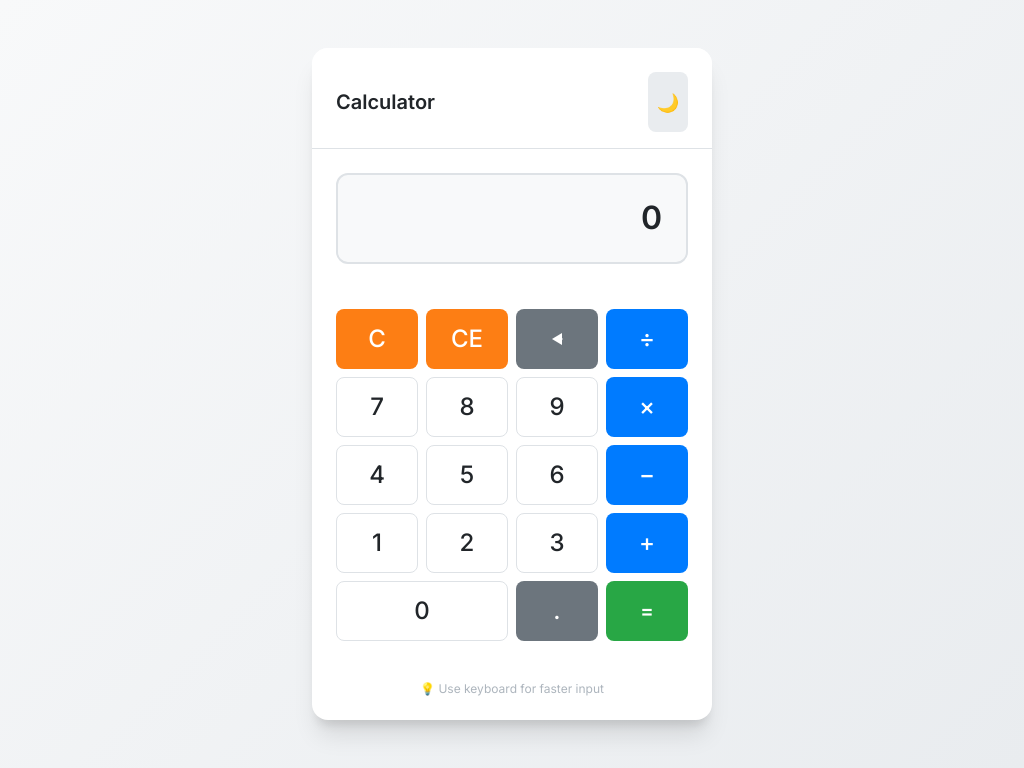
Edge Cases and Error Handling › handles theme toggle during calculation
This screenshot has width=1024, height=768.
Type keys "5+3"
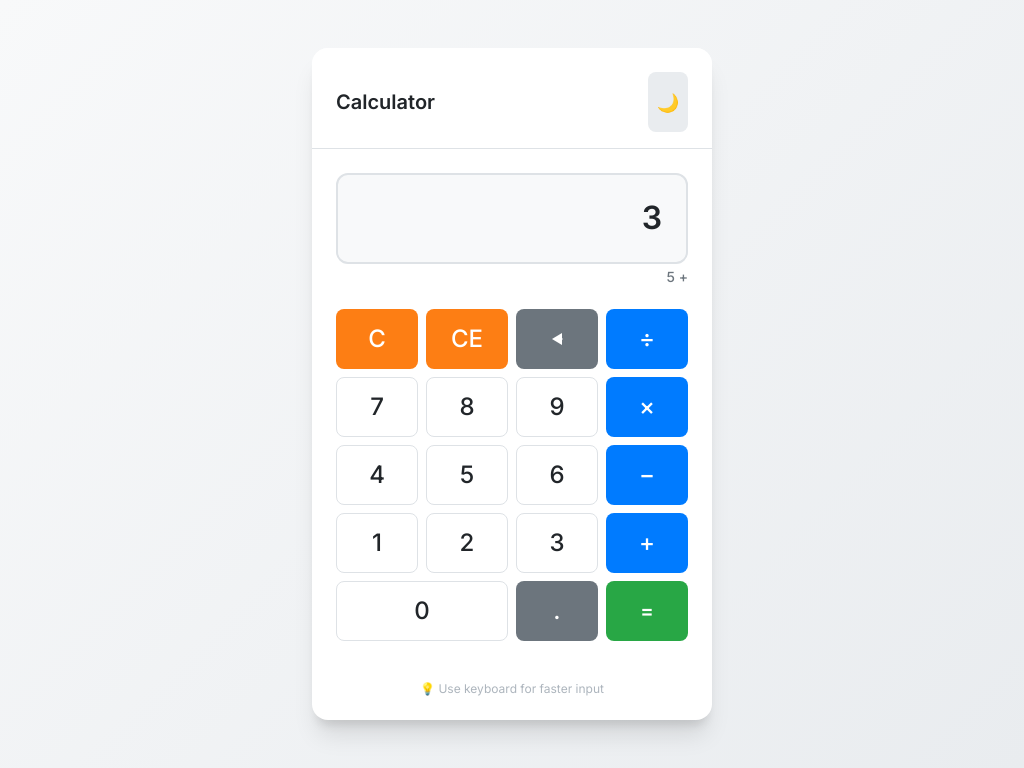
// Toggle theme during calculation
Click the button named "Toggle dark/light mode" at (668, 102), box [648,72,688,132]
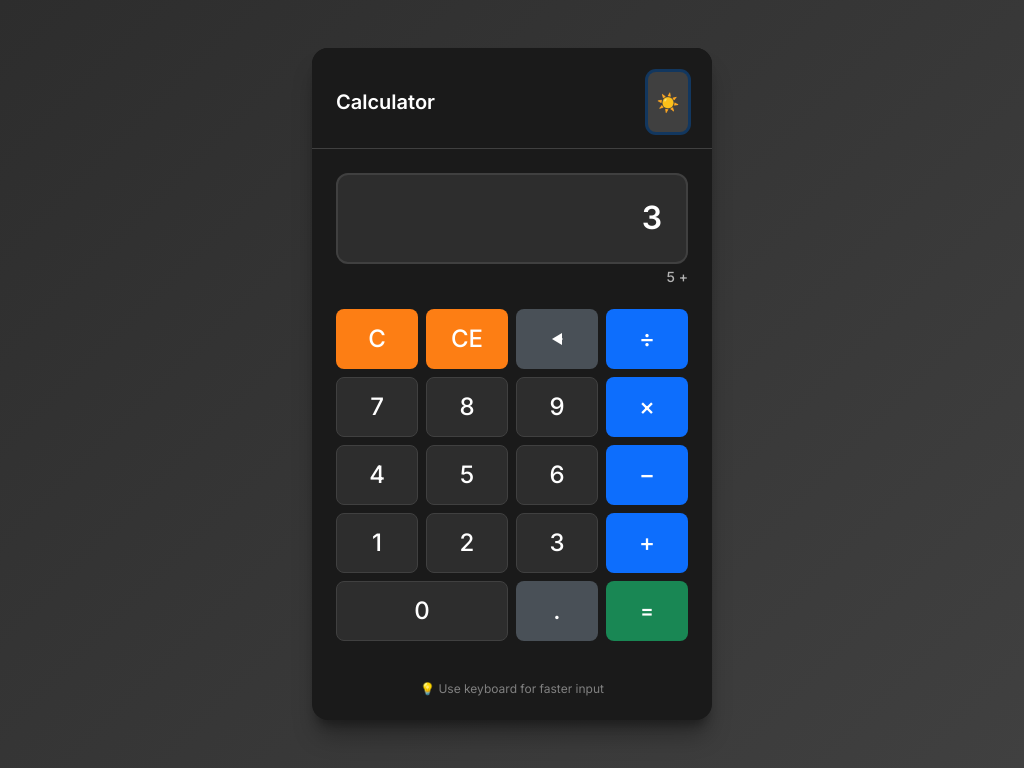
// Complete calculation
Type keys "="
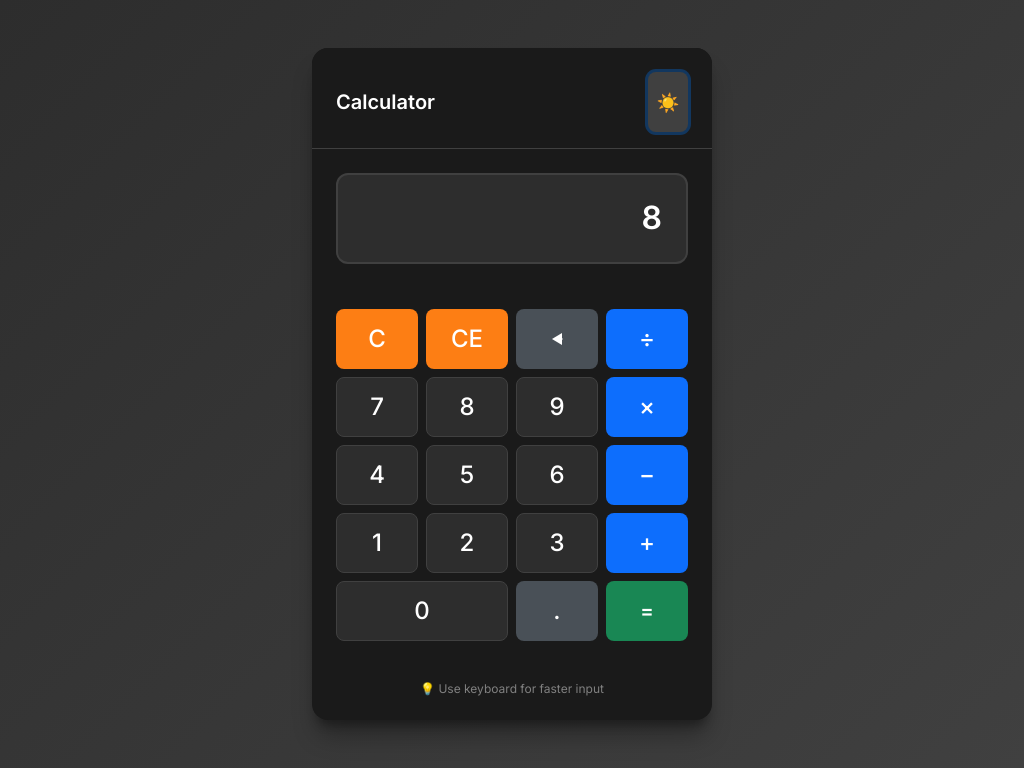
Result: the field reads "8" at [642,198,662,237]
